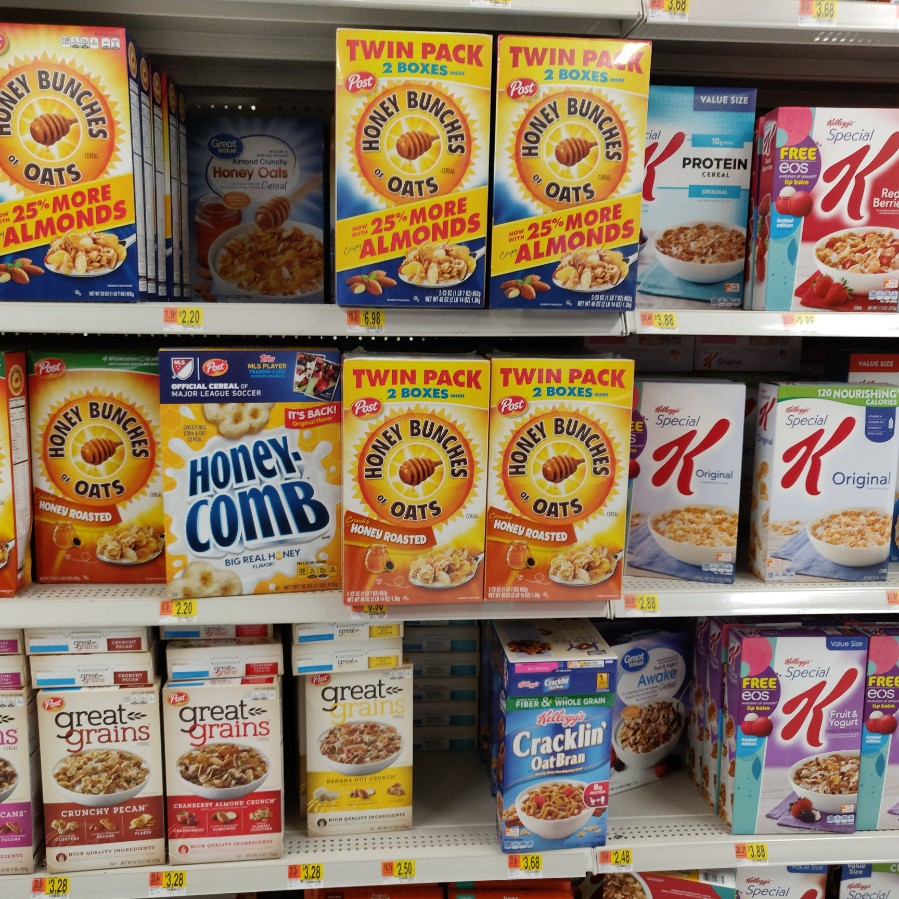Honey Comb- 009288857: (154, 347, 345, 591)
